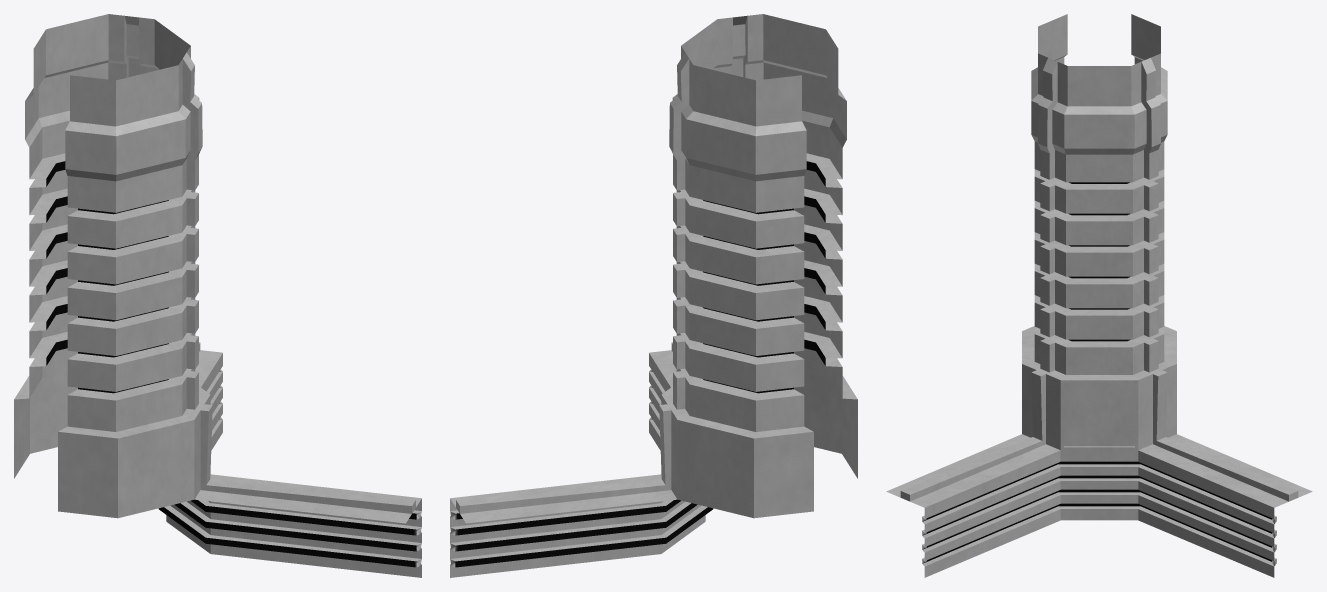
Rendered from tower_unfucked.fbx.
The picture shows the model from 3 angles, left to right: view 1: azimuth 30°, elevation 25°; view 2: azimuth 150°, elevation 25°; view 3: azimuth 270°, elevation 25°; orthographic projection. The views are drawn at different scales.
Visible parts, largest first — view 1: tower; view 2: tower; view 3: tower.
Boxes of the visible parts, left/top/right/bottom form: tower: left=14, top=14, right=421, bottom=577; tower: left=450, top=14, right=857, bottom=577; tower: left=886, top=14, right=1312, bottom=577.
Size of the model in its own units: 16499 by 28033 by 24220.
1 material, 1 textured.
